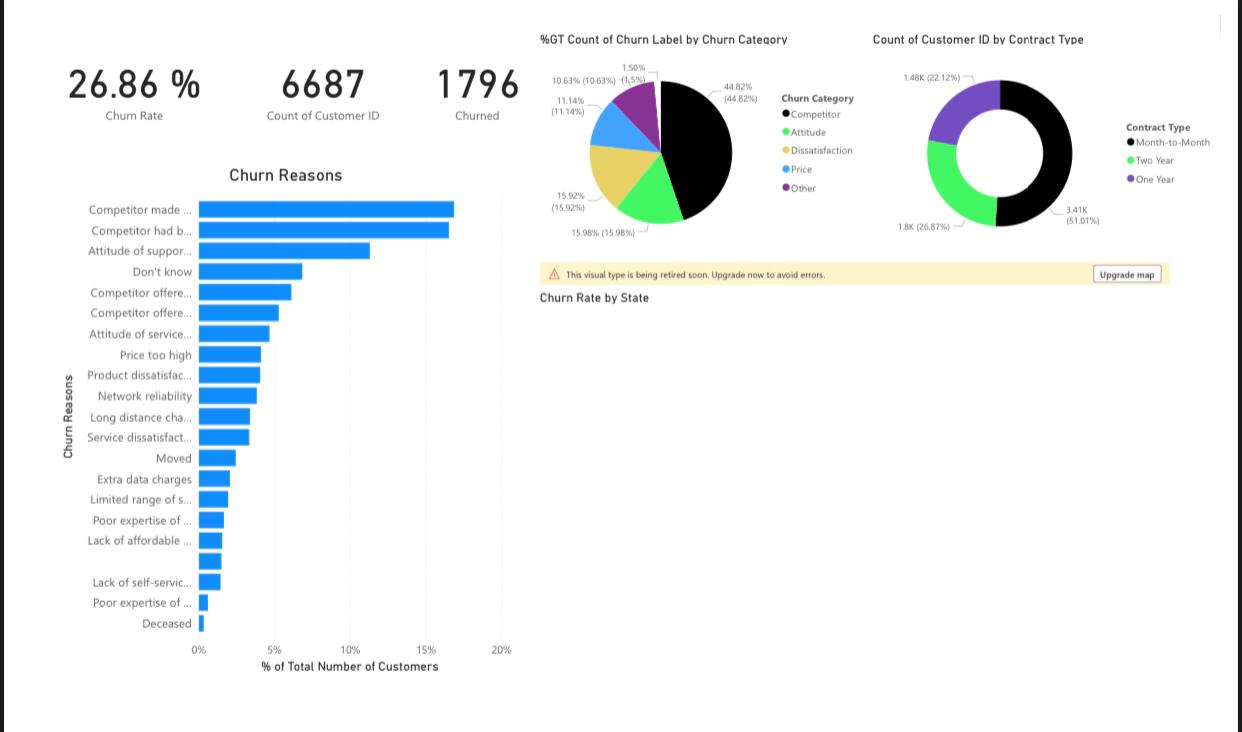

This screenshot's page, from the dashboard's own definition file:
{"tool":"powerbi","page":{"name":"Overview","canvas":[1640,960],"ordinal":5},"visuals":[{"type":"card","fields":{"Values":["Databel - Data.Churn Rate"]},"box":[48.9,37.1,211.2,123.2],"z":0},{"type":"card","fields":{"Values":["Count(Databel - Data.Customer ID)"]},"box":[307,37.1,211.2,123.2],"z":1000},{"type":"card","fields":{"Values":["Sum(Databel - Data.Churned)"]},"box":[518.1,37.1,211.2,123.2],"z":2000},{"type":"clusteredBarChart","title":"Churn Reasons","fields":{"Category":["Databel - Data.Churn Reason"],"Y":["CountNonNull(Databel - Data.Number of Customers in Group)"]},"box":[48.9,205.3,625.7,698],"z":3000},{"type":"donutChart","fields":{"Y":["Count(Databel - Data.Customer ID)"],"Category":["Databel - Data.Contract Type"]},"box":[1159.4,23.5,481,314.8],"z":4000},{"type":"pieChart","fields":{"Category":["Databel - Data.Churn Category"],"Y":["CountNonNull(Databel - Data.Churn Label)"]},"box":[703.9,23.5,455.6,312.8],"z":5000},{"type":"map","fields":{"Category":["Databel - Data.State"],"Size":["Databel - Data.Churn Rate"]},"box":[703.9,338.2,872,570.9],"z":6000}]}

Visuals, with their boxes in screenshot pixels (x1, y1, x2, y2), scaled from the page's 1640x960 canvas onto the 1242x732 screenshot:
card - Databel - Data.Churn Rate: detection(37, 28, 197, 122)
card - Count(Databel - Data.Customer ID): detection(232, 28, 392, 122)
card - Sum(Databel - Data.Churned): detection(392, 28, 552, 122)
"Churn Reasons" clusteredBarChart: detection(37, 157, 511, 689)
donutChart - Count(Databel - Data.Customer ID) x Databel - Data.Contract Type: detection(878, 18, 1241, 258)
pieChart - Databel - Data.Churn Category x CountNonNull(Databel - Data.Churn Label): detection(533, 18, 878, 256)
map - Databel - Data.State x Databel - Data.Churn Rate: detection(533, 258, 1193, 693)
